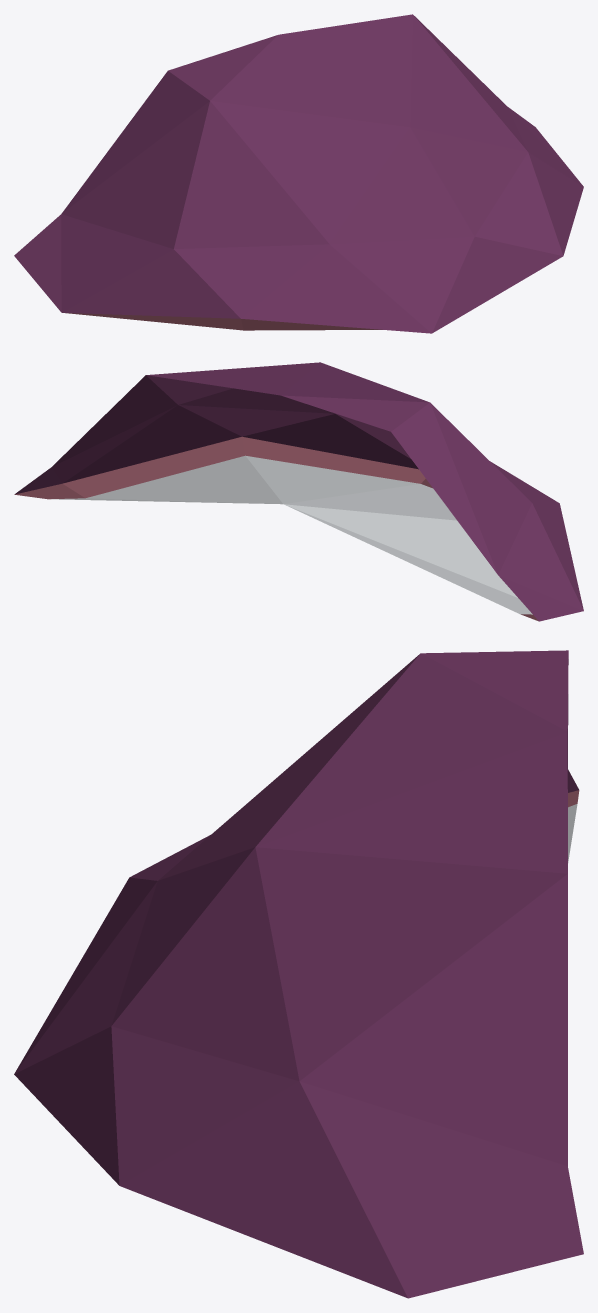
Rendered from WallShroom.fbx.
The picture shows the model from 3 angles, top to bottom: view 1: azimuth 30°, elevation 25°; view 2: azimuth 150°, elevation 25°; view 3: azimuth 270°, elevation 25°; orthographic projection. The views are drawn at different scales.
Parts seen in each view (by area): view 1: WallShroom; view 2: WallShroom; view 3: WallShroom.
Part boxes in pixels (x1,y1,x2,y2): WallShroom: (14,14,583,333); WallShroom: (14,362,583,621); WallShroom: (14,650,583,1298).
Bounding box in the file's own units: 205 × 71.76 × 106.
